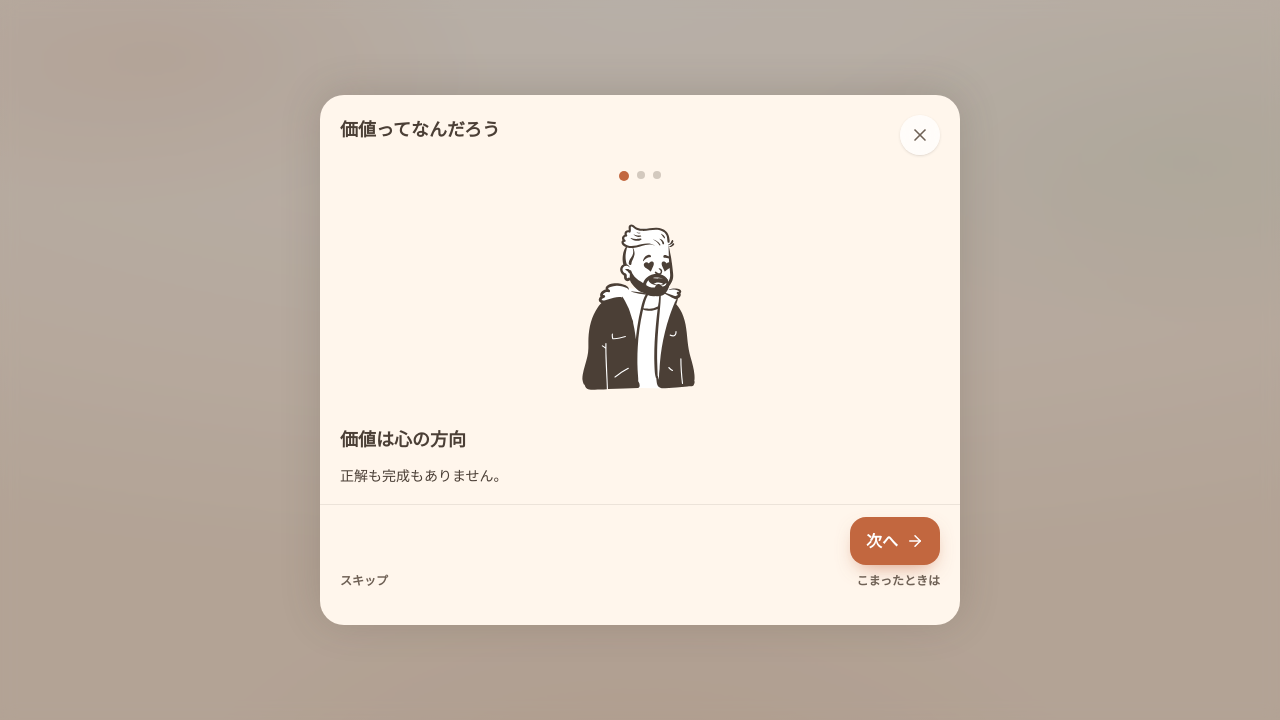
TopicStepModal › 「次へ」で次のステップに進み、進捗表示が移動する
What coordinates should you click on to do the following:
click the button "次へ"
I would click on:
 (895, 541)
Its box is left=850, top=517, right=940, bottom=565.
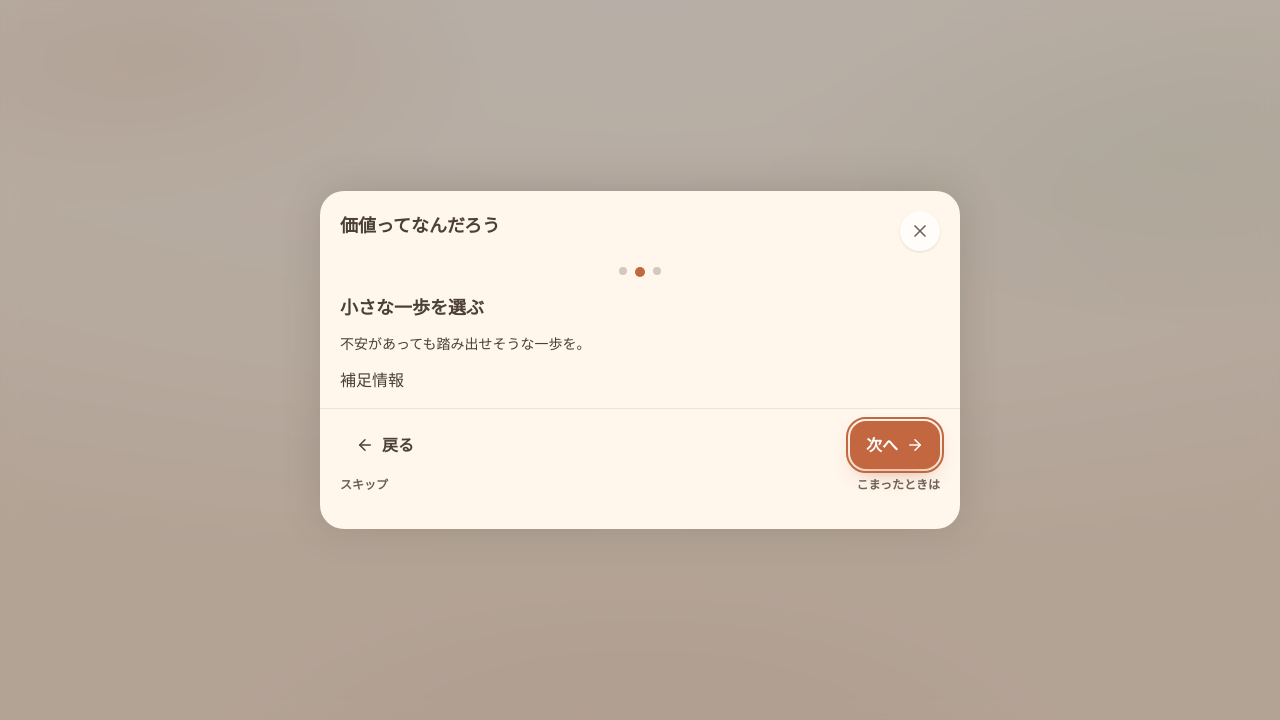
expect the heading "小さな一歩を選ぶ" is shown: met, box left=340, top=295, right=484, bottom=319
